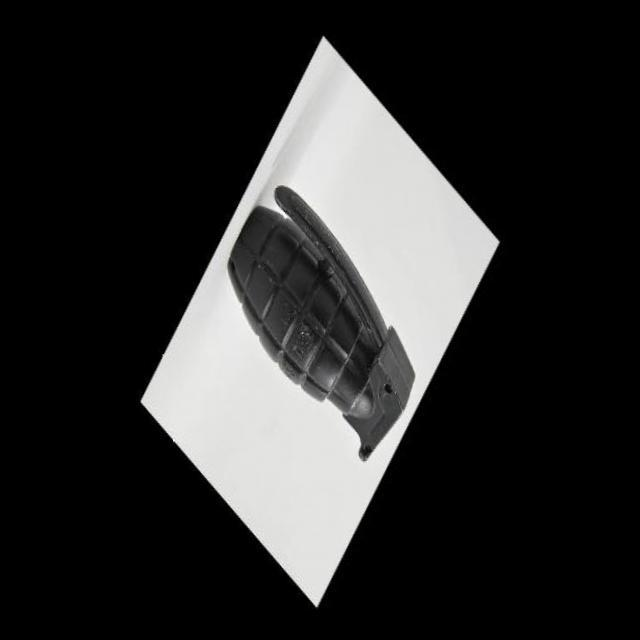grenade: (208, 179, 426, 478)
